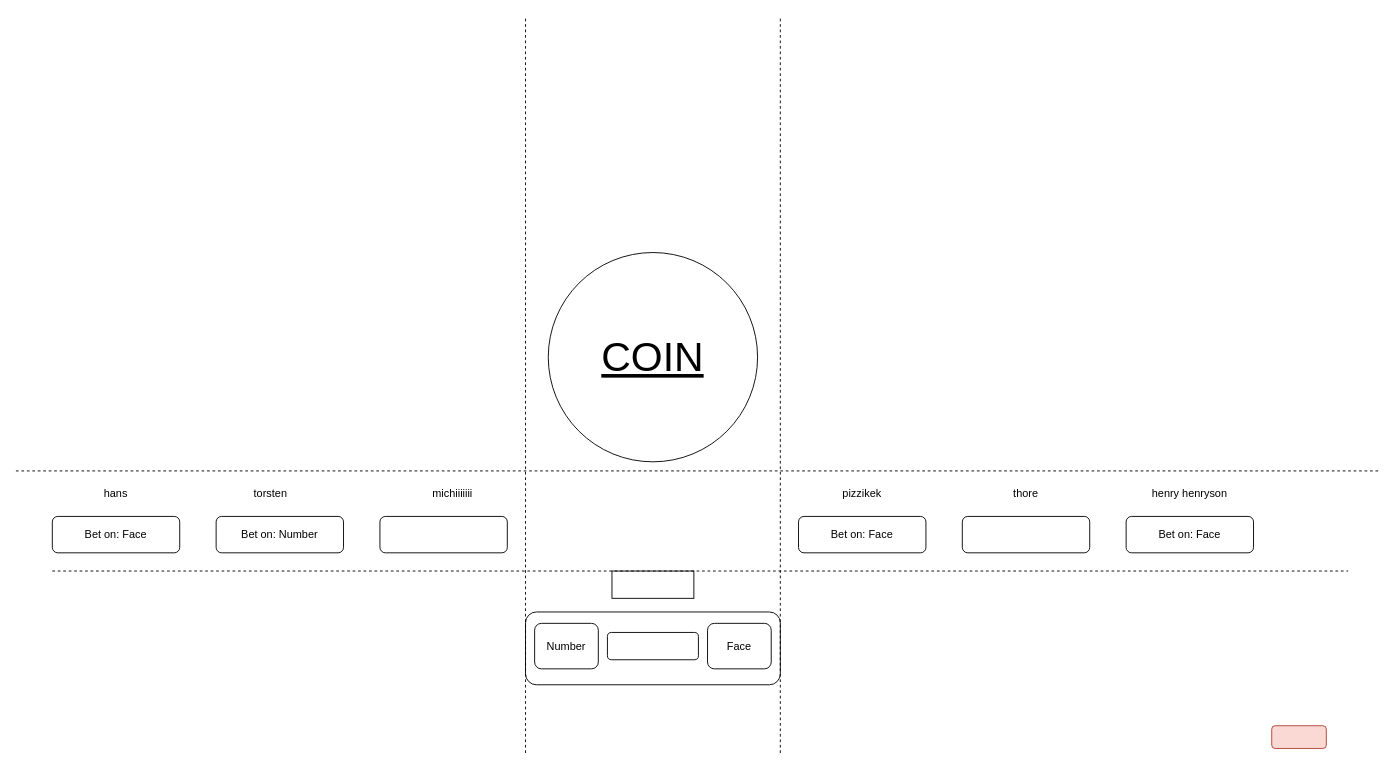
Image size: 1398x770. Some labels were removed from this diagram. Here are the shapes that lost their labels. From the top down, the centre of each, then its label:
point (652, 584): Points: 51365
point (652, 646): Bet:
point (1298, 736): Leave
